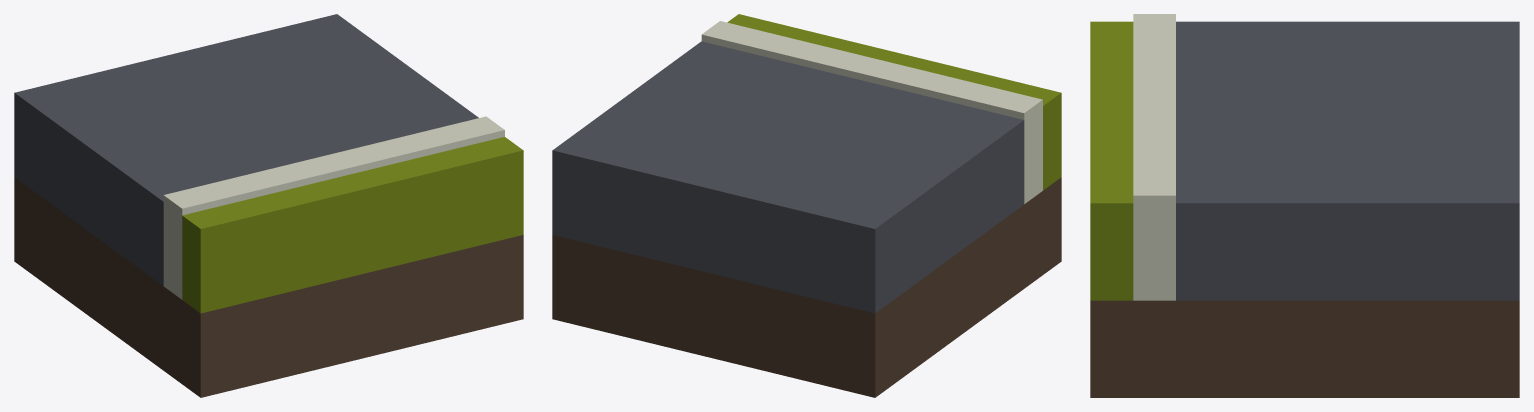
File: runway-boundary.dae
3 views of the same model, side by side, from view 1: azimuth 30°, elevation 25°; view 2: azimuth 150°, elevation 25°; view 3: azimuth 270°, elevation 25° (orthographic). The views are drawn at different scales.
Parts seen in each view (by area): view 1: street.1; view 2: street.1; view 3: street.1.
Boxes of the visible parts, x1=… form: street.1: x1=14, y1=14, x2=523, y2=397; street.1: x1=552, y1=14, x2=1061, y2=397; street.1: x1=1090, y1=14, x2=1519, y2=397.
Size of the model in its own units: 500 by 260 by 500.
